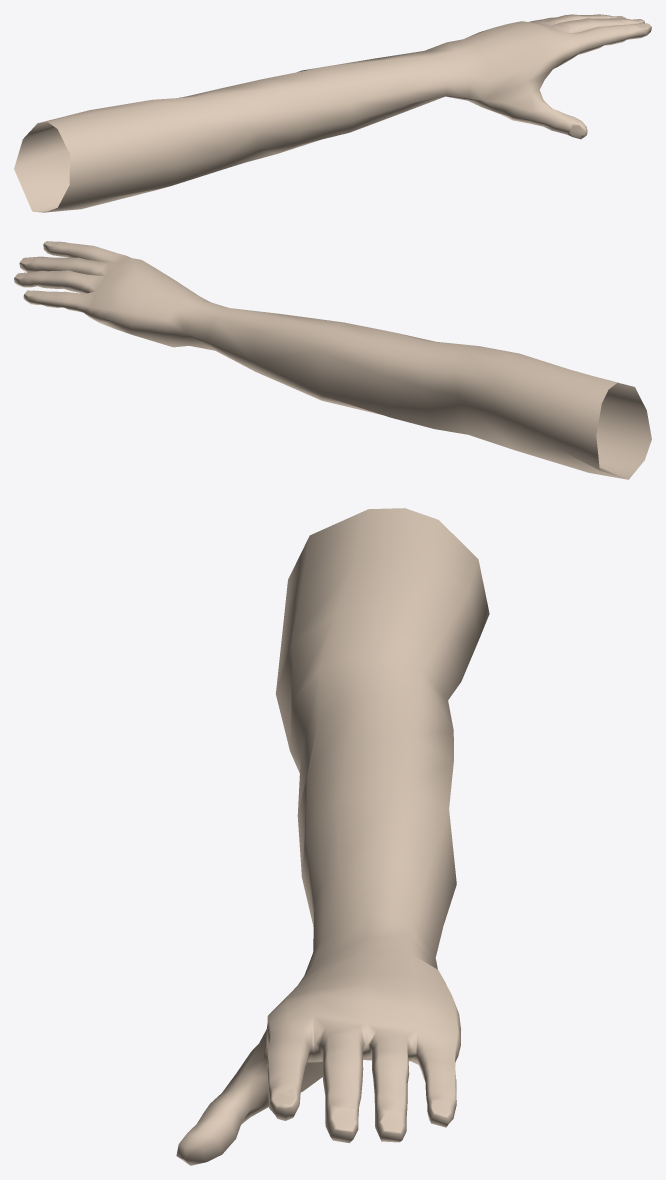
Rendered from left_hand.fbx.
3 views of the same model, one above another, from view 1: azimuth 30°, elevation 25°; view 2: azimuth 150°, elevation 25°; view 3: azimuth 270°, elevation 25° (orthographic). The views are drawn at different scales.
Parts seen in each view (by area): view 1: Arm; view 2: Arm; view 3: Arm.
Part boxes in pixels (x1,y1,x2,y2): Arm: (14,14,651,212); Arm: (14,241,651,479); Arm: (176,508,489,1165).
Size of the model in its own units: 36.48 by 5.57 by 8.26.
